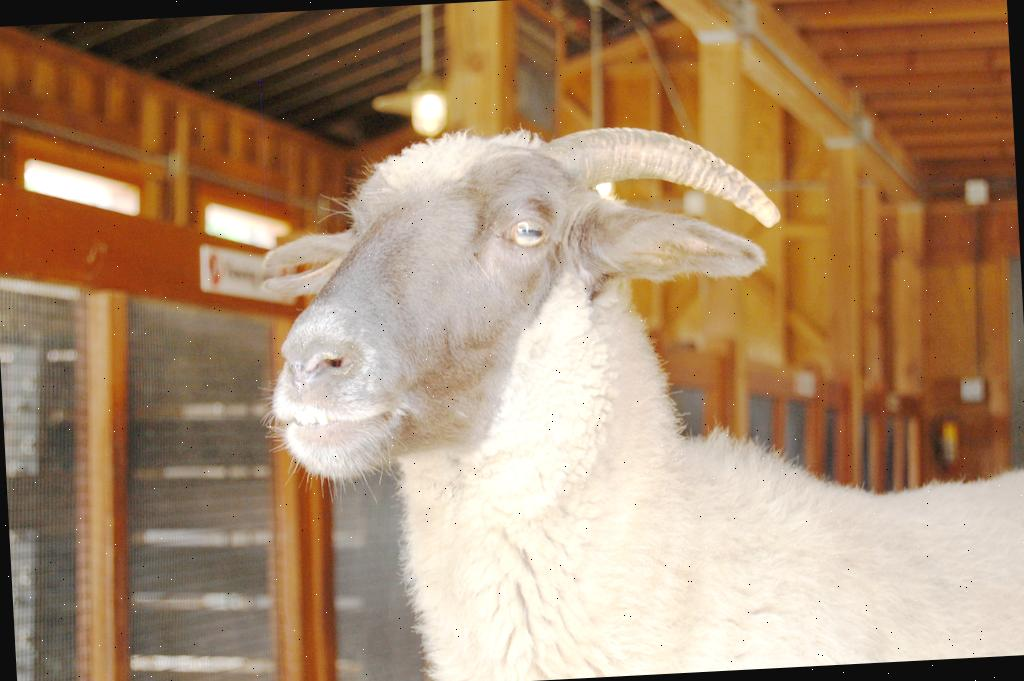Sheep: (214, 77, 956, 681)
